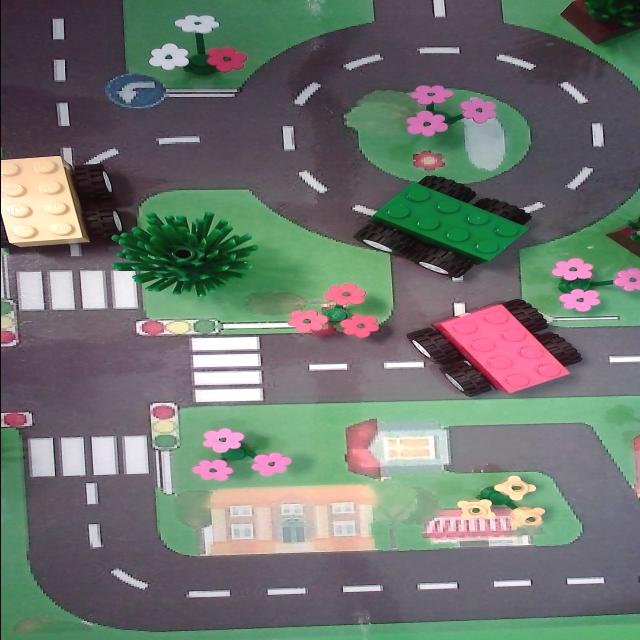Car: (352, 168, 536, 280), (408, 294, 586, 408), (0, 152, 135, 254)
Flower: (135, 12, 255, 84), (179, 424, 296, 490), (282, 281, 389, 345), (454, 469, 556, 534), (544, 250, 640, 314), (404, 80, 502, 140)
Tree: (103, 208, 260, 298), (540, 0, 640, 48), (601, 208, 640, 260)
